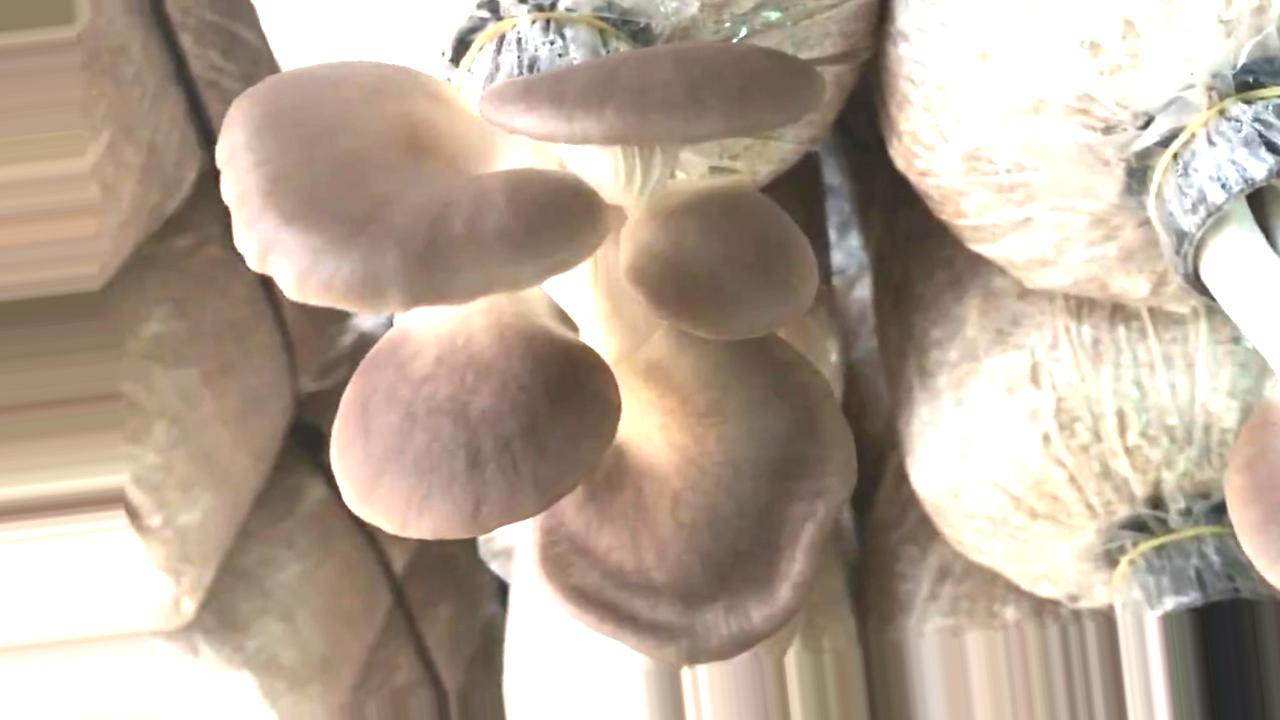nam: (218, 10, 854, 667), (1150, 84, 1280, 592)
